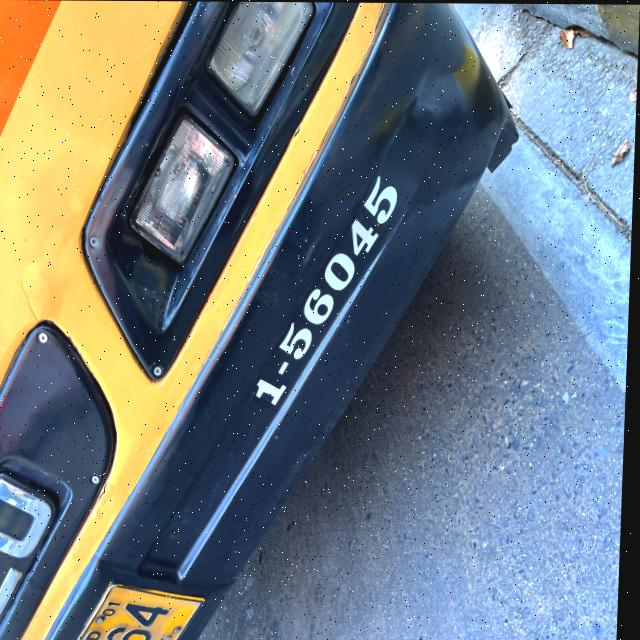BMTA-bus: (0, 1, 531, 640)
